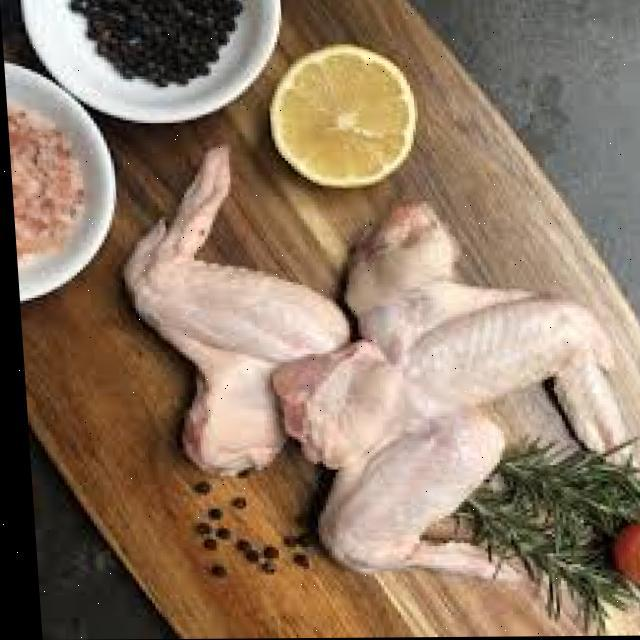wing: (333, 182, 636, 470), (108, 148, 348, 476), (261, 326, 520, 598)
